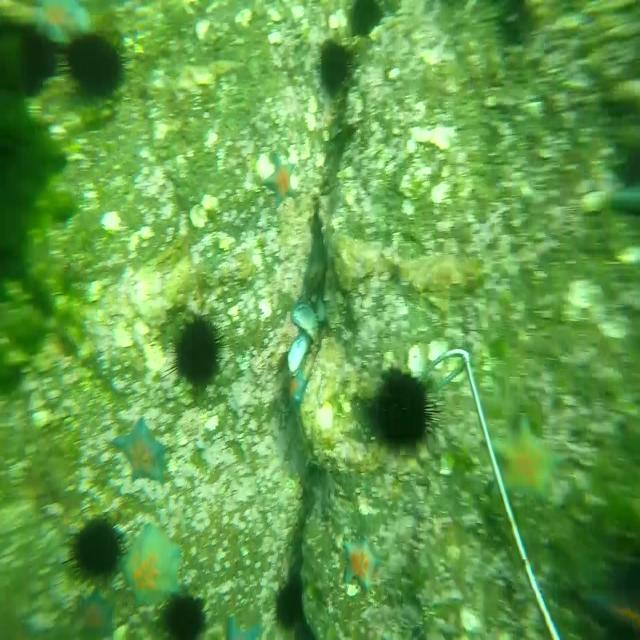echinus: (363, 361, 444, 462), (164, 306, 225, 384), (65, 506, 125, 582), (60, 32, 125, 98), (161, 591, 208, 640), (270, 574, 308, 634), (315, 37, 351, 97), (497, 0, 532, 53)
starfish: (489, 408, 568, 511), (127, 524, 187, 602), (114, 414, 173, 484), (33, 0, 91, 53), (342, 532, 385, 596), (265, 151, 298, 206), (80, 590, 113, 640), (220, 612, 264, 640), (284, 367, 308, 413)
